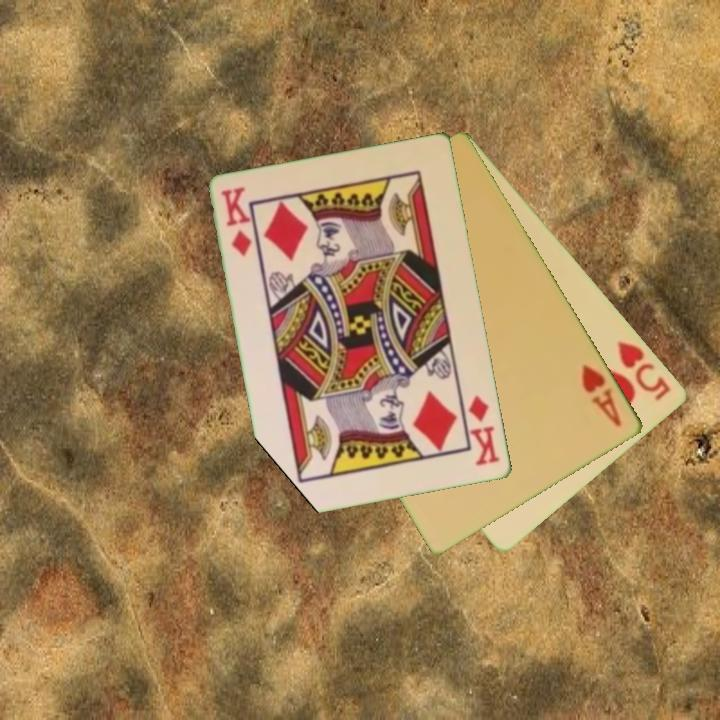5h: (614, 337, 675, 404)
Ah: (578, 360, 625, 430)
Kd: (465, 392, 503, 469), (217, 183, 255, 260)
